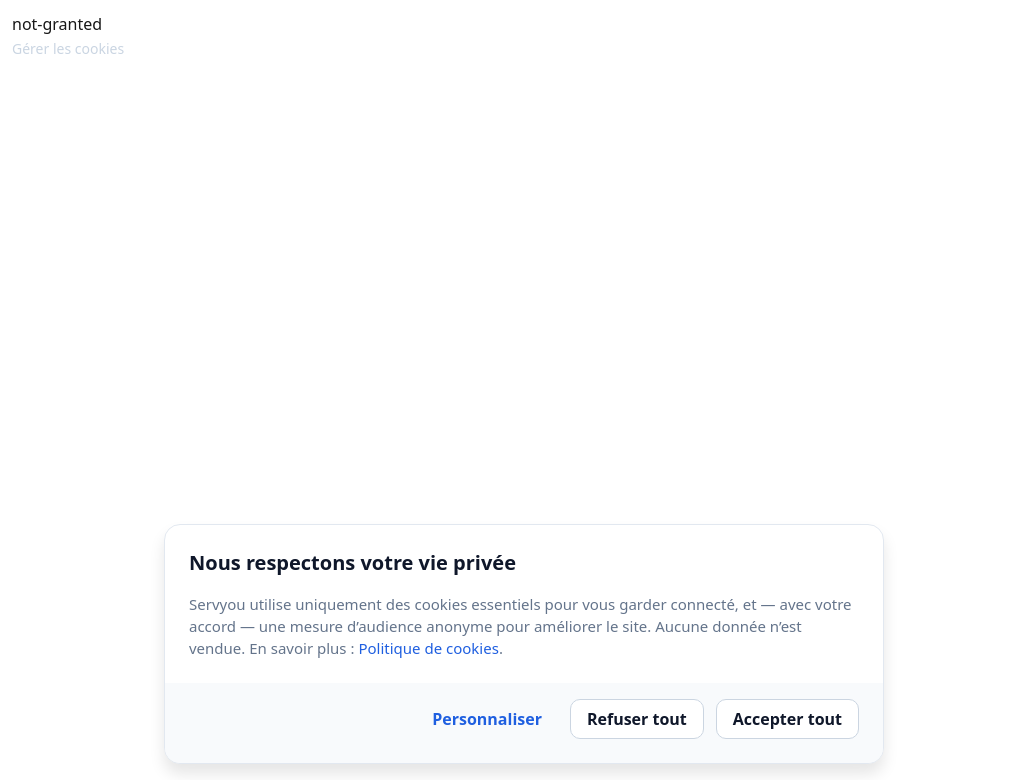
Test: the banner › « Refuser tout » stores audience = false and the hook stays not-granted
Click the button "Refuser tout": (637, 719) top-left (570, 699), bottom-right (704, 739)
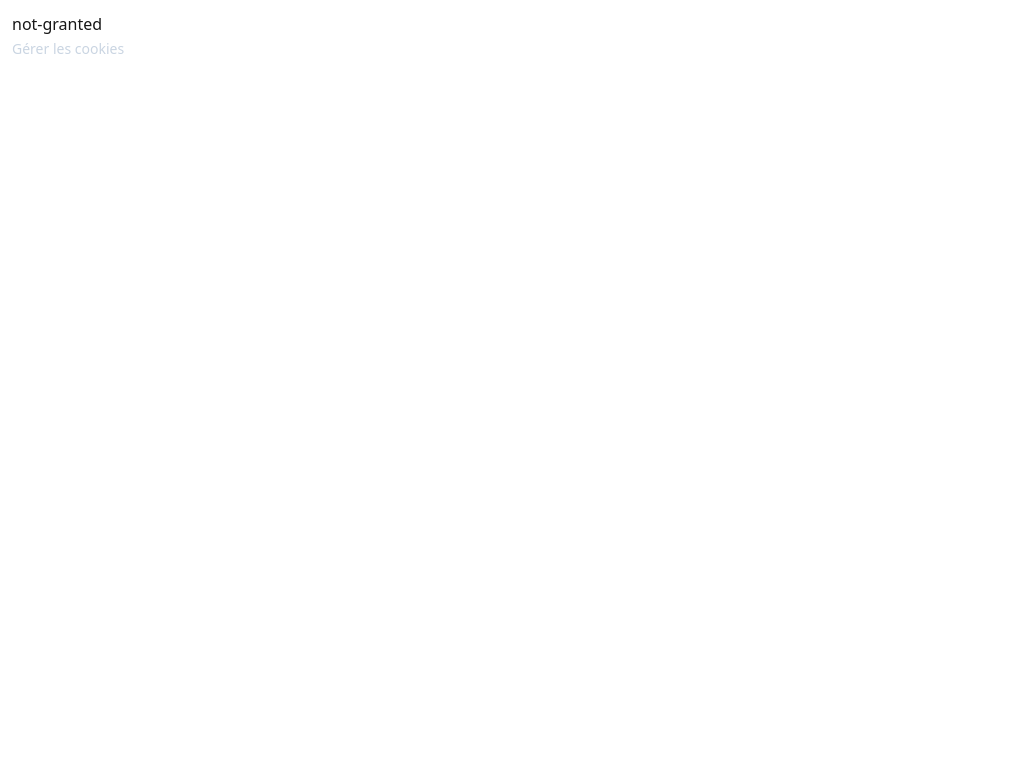
Expected: the text with test id "probe" reads "not-granted", top-left (12, 13), bottom-right (102, 35)
Expected: the heading "Nous respectons votre vie privée" is gone
